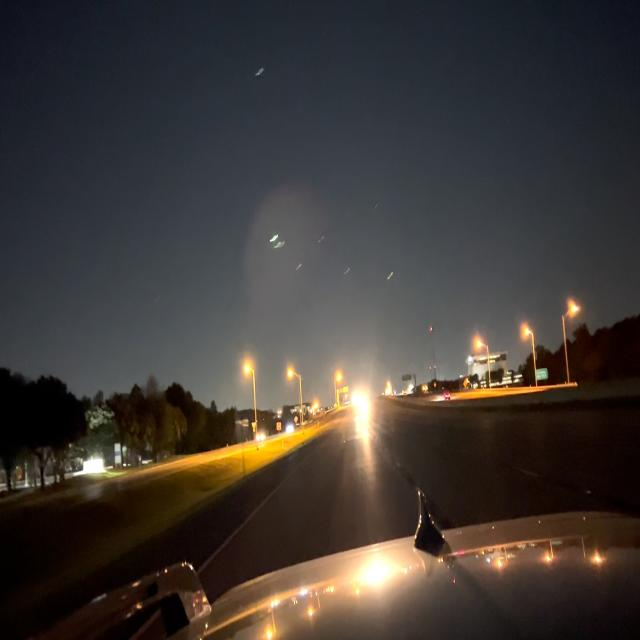back-of-sign: (236, 421, 248, 441)
